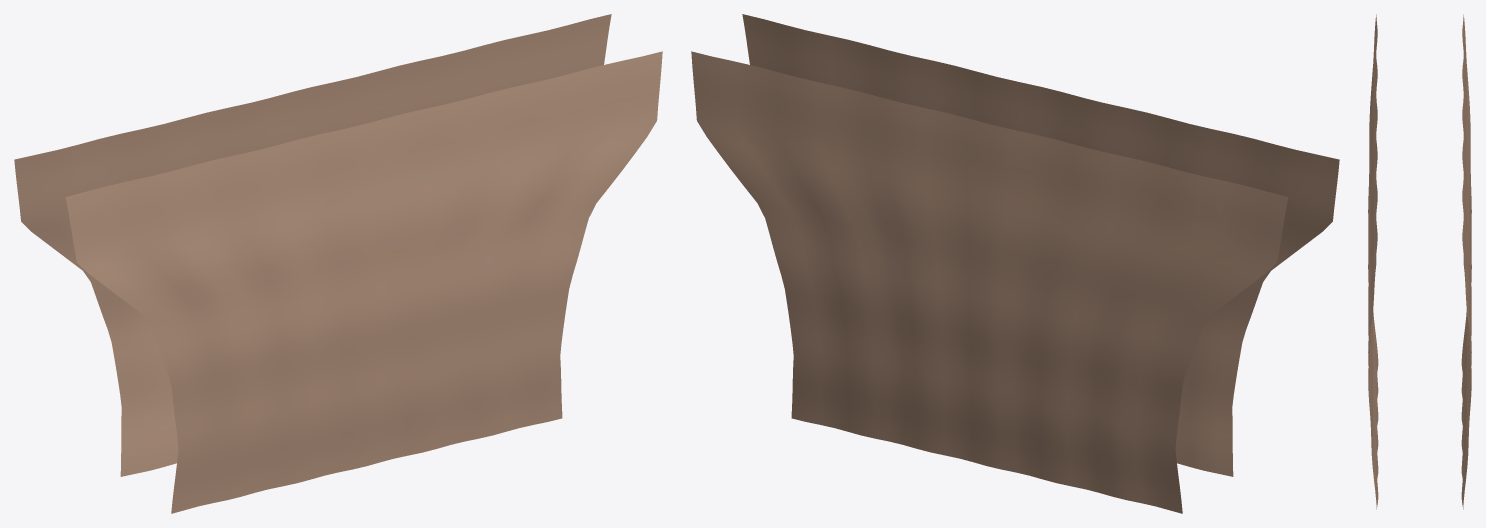
File: clean.glb
3 renders of one model, left to right at view 1: azimuth 30°, elevation 25°; view 2: azimuth 150°, elevation 25°; view 3: azimuth 270°, elevation 25°, orthographic. The views are drawn at different scales.
Visible parts, largest first — view 1: clean:manual-tshirt-02.front, clean:manual-tshirt-02.back; view 2: clean:manual-tshirt-02.back, clean:manual-tshirt-02.front; view 3: clean:manual-tshirt-02.front, clean:manual-tshirt-02.back.
Boxes of the visible parts, <box> form: clean:manual-tshirt-02.front: <box>65,51,662,513</box>; clean:manual-tshirt-02.back: <box>14,14,611,476</box>; clean:manual-tshirt-02.back: <box>691,51,1288,513</box>; clean:manual-tshirt-02.front: <box>742,14,1339,476</box>; clean:manual-tshirt-02.front: <box>1368,14,1378,509</box>; clean:manual-tshirt-02.back: <box>1461,14,1471,509</box>.
Size of the model in its own units: 1.31 by 0.72 by 0.2312.
